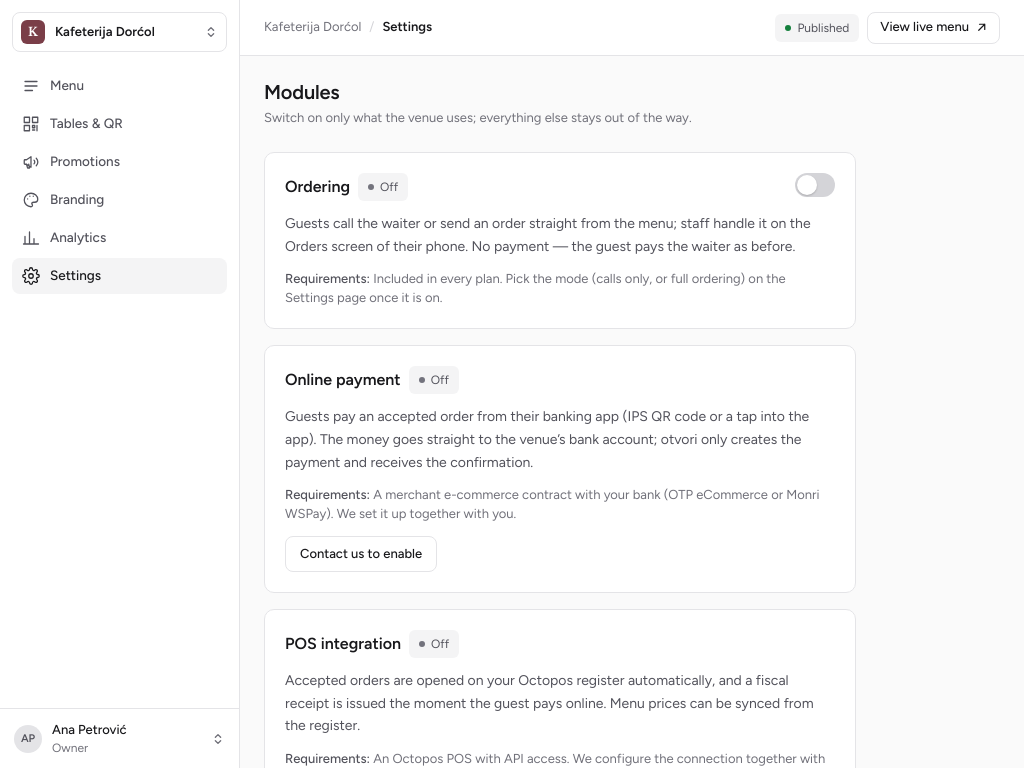
modules › lets the owner switch ordering on and sends only that module
The image size is (1024, 768).
Expected: the text "Off" is shown, [358,173,408,201]
Click the switch named "Ordering": (815, 185) [795,173,835,197]
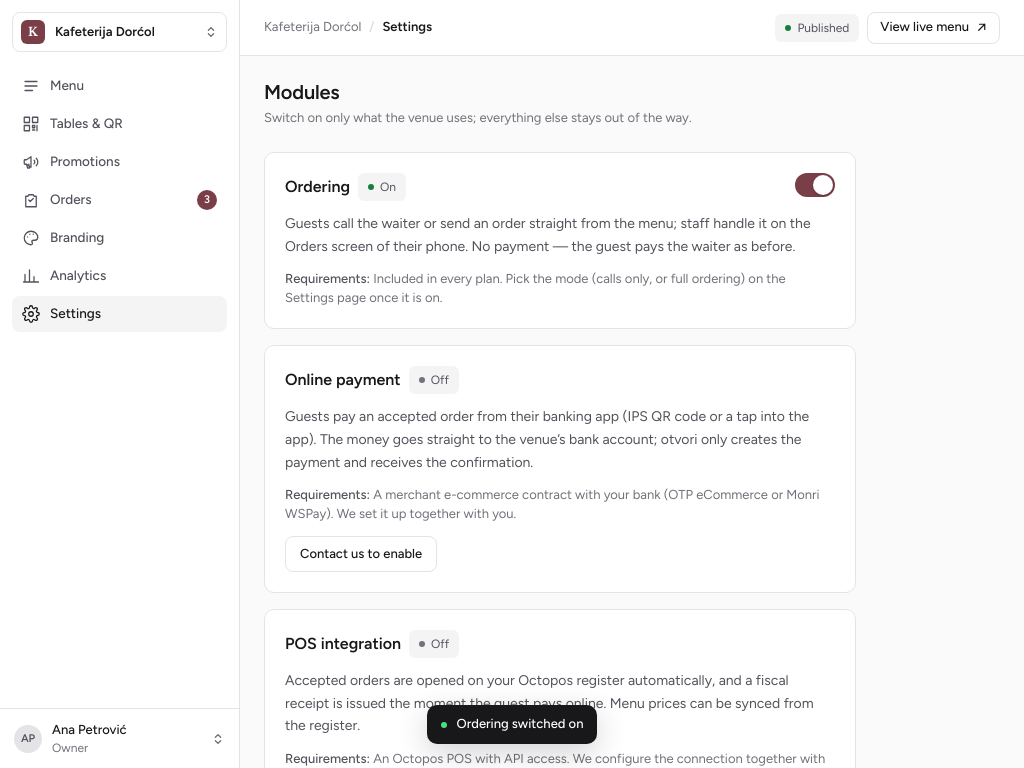
Expected: the text "Ordering switched on" is shown, [427,705,597,744]
Expected: the text "On" is shown, [358,173,406,201]
Expected: the link "Orders 3" is shown, [22,190,217,210]
